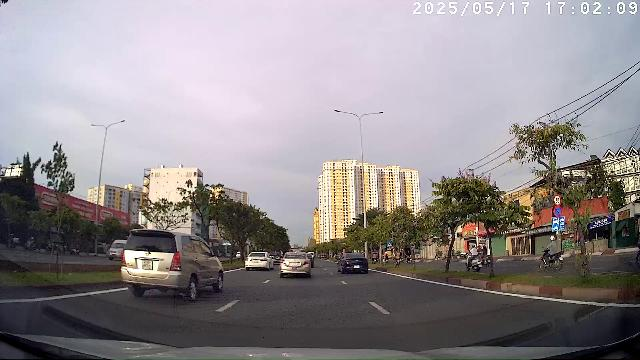127-toc-do-toi-da-60: (553, 194, 562, 206)
131a-cam-do-xe: (553, 205, 563, 217)
